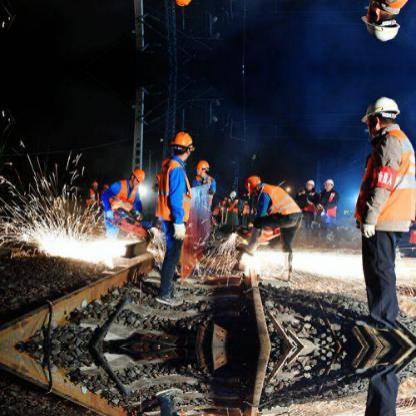Helmet: (363, 96, 405, 148), (360, 1, 402, 48), (170, 134, 196, 160), (130, 166, 146, 188), (194, 160, 210, 180), (248, 176, 264, 190)
